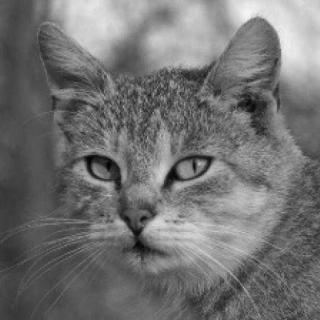cat: (35, 12, 280, 290)
nose: (110, 189, 166, 238)
